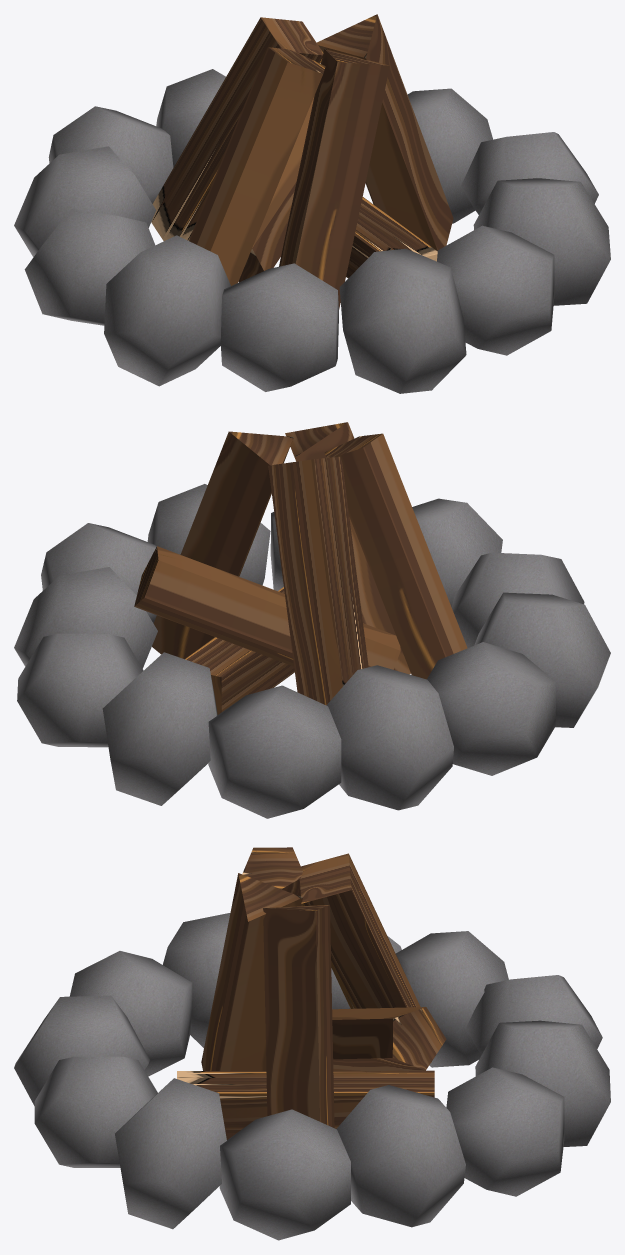
The model's file is fire.obj.
The picture shows the model from 3 angles, top to bottom: view 1: azimuth 30°, elevation 25°; view 2: azimuth 150°, elevation 25°; view 3: azimuth 270°, elevation 25°; orthographic projection.
Bounding box in the file's own units: 2.32 × 1.15 × 2.32.
2 materials, 2 textured.
